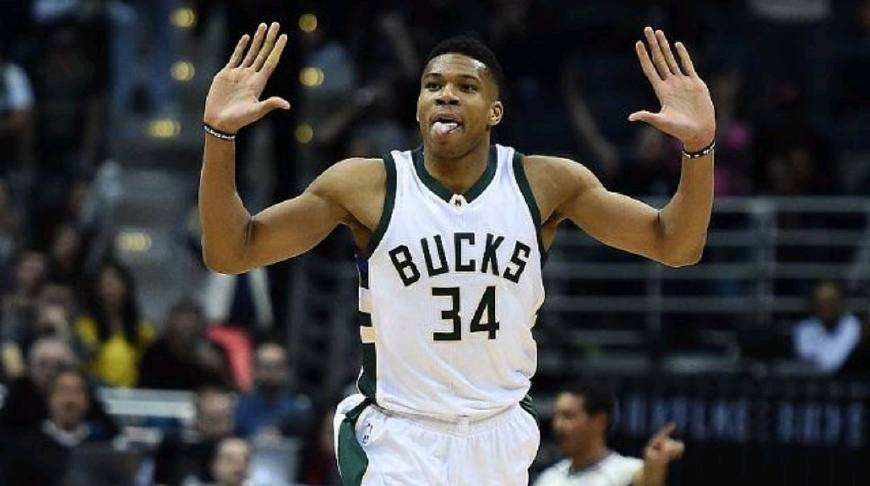no-phone: (625, 22, 721, 148), (199, 16, 295, 132)
